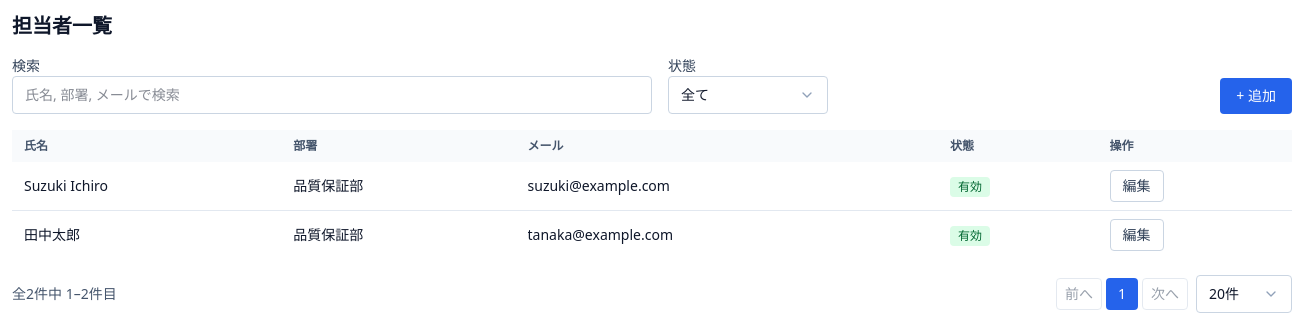
Scenario: PersonList › name部分一致(大文字小文字無視)する行のみ表示する
Type "SUZUKI" into the field labelled "検索" at [332, 95], box [12, 76, 652, 114]
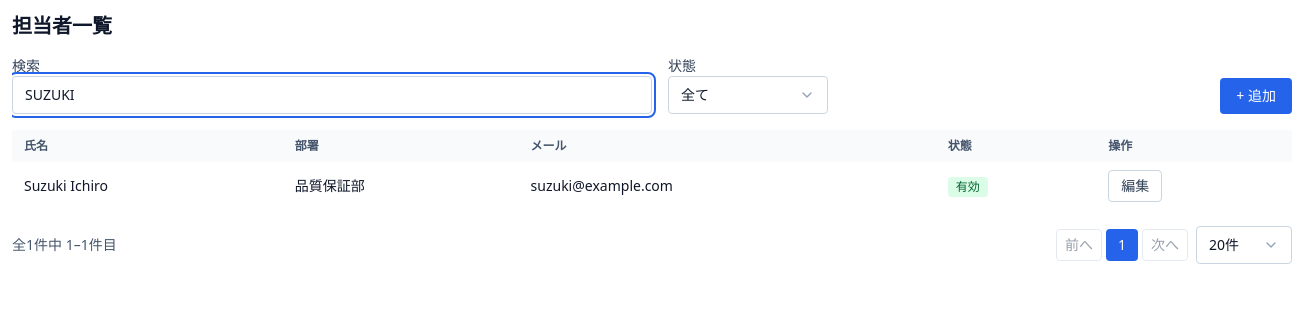
Expected: the text "Suzuki Ichiro" is shown, [24, 176, 108, 195]
Expected: the text "田中太郎" is gone
